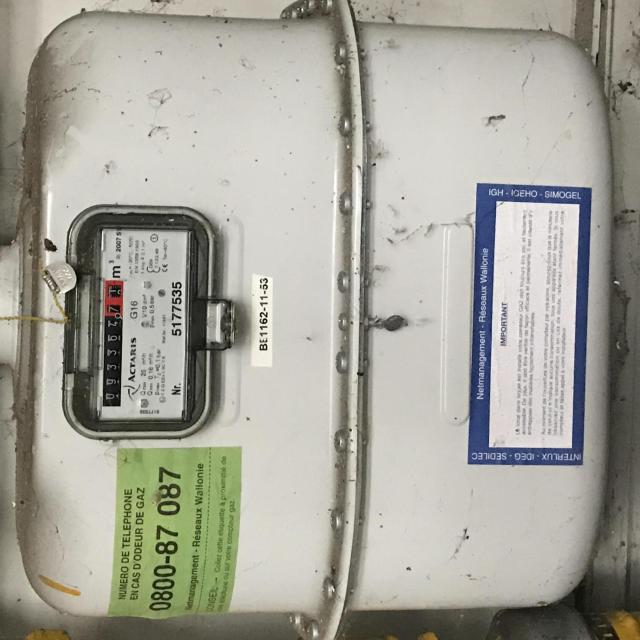gaz_meter: (97, 221, 190, 424)
indication: (102, 280, 121, 405)
